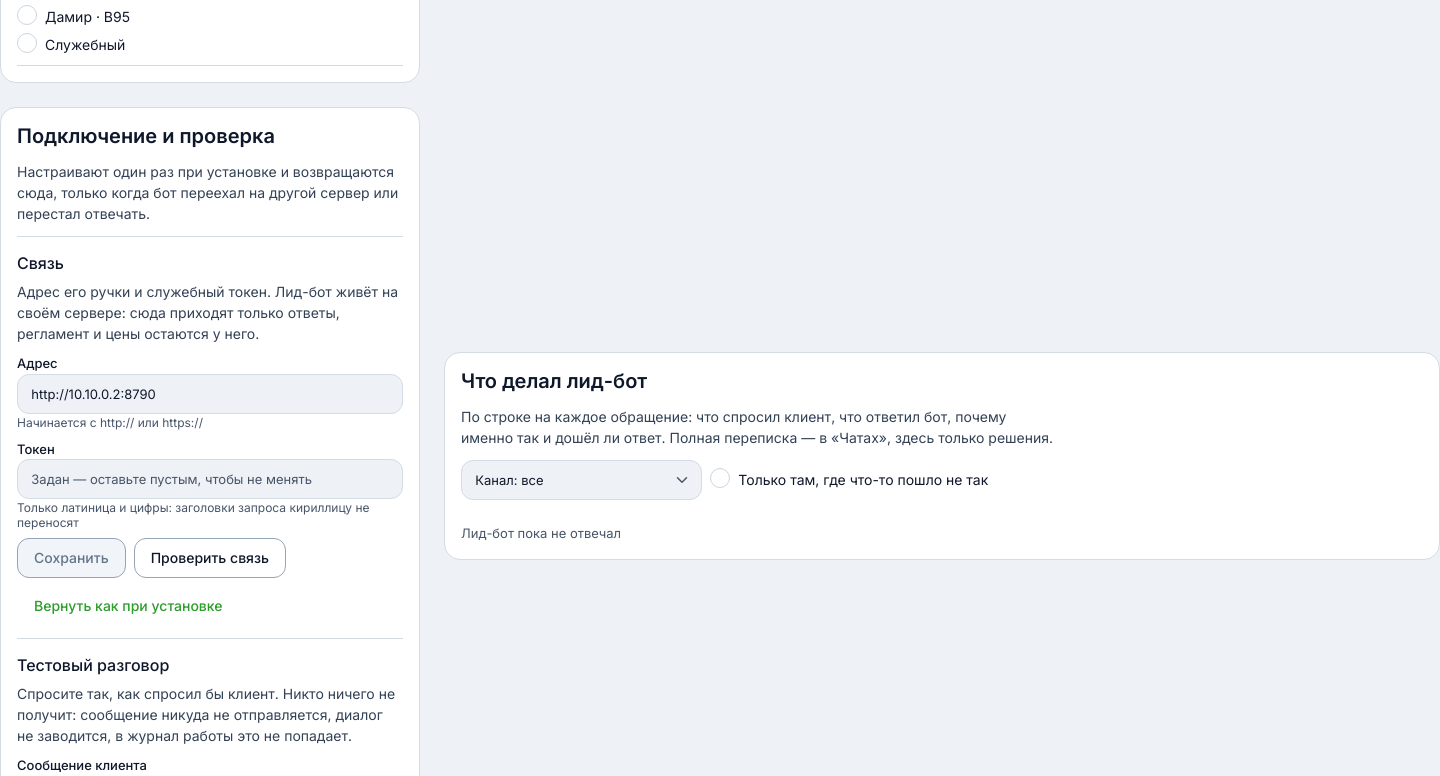
Scenario: Раздел «Лид-бот» › правка адреса не затирается сохранением соседней настройки
(page scrolled)
In the field labelled "Адрес": (210, 394) [17, 374, 403, 414], type "http://10.10.0.9:8790"
(page scrolled)
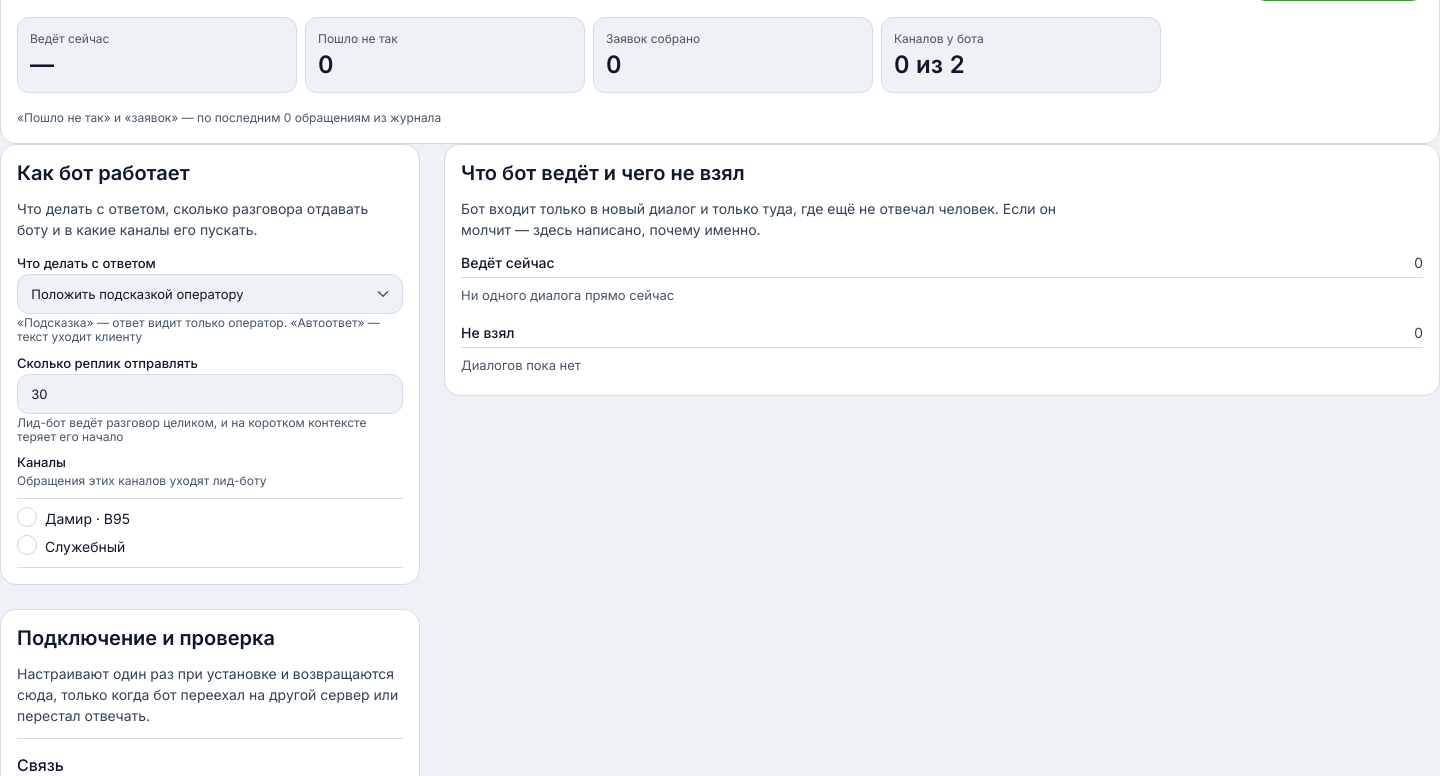
Replace the text in the number field labelled "Сколько реплик отправлять" with "12": (210, 394) [17, 374, 403, 414]
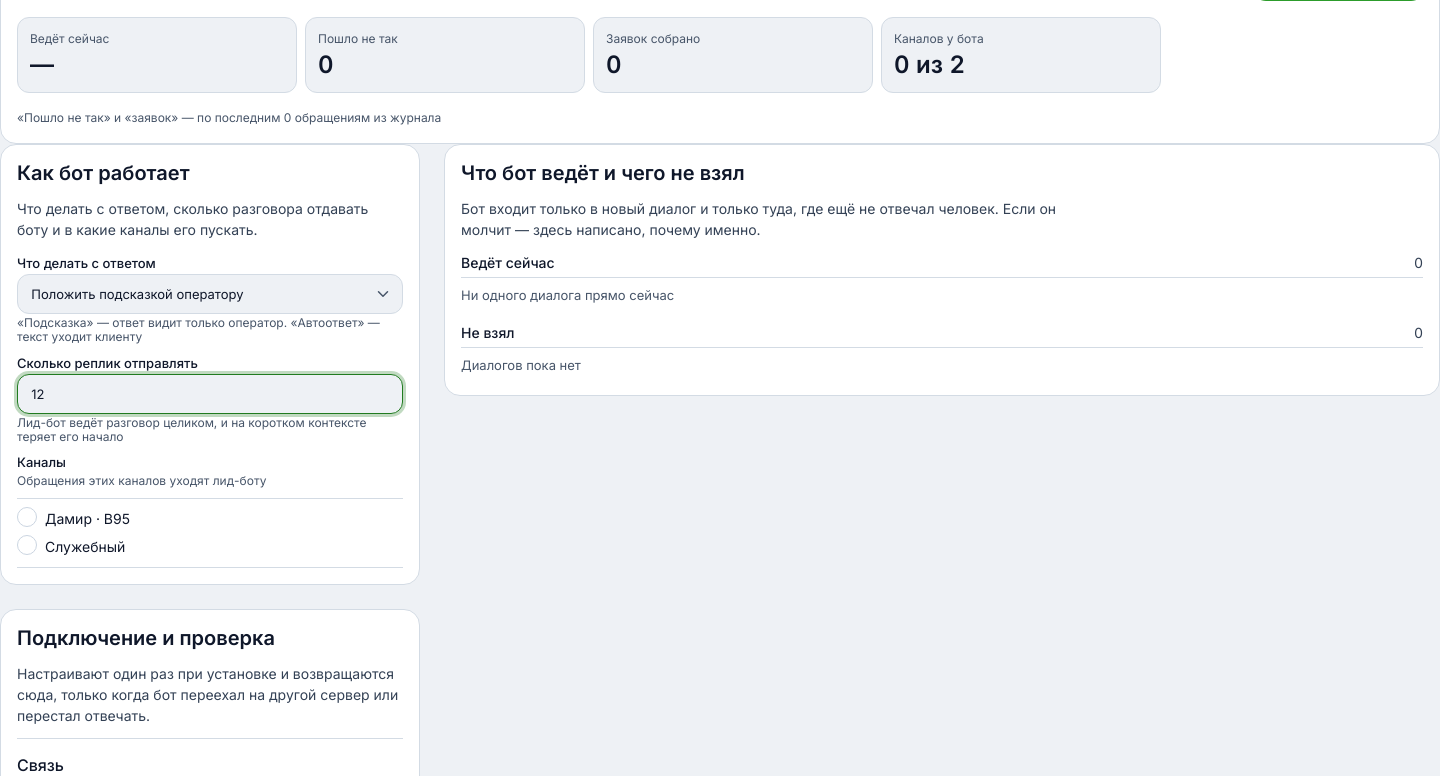
Press Tab
(page scrolled)
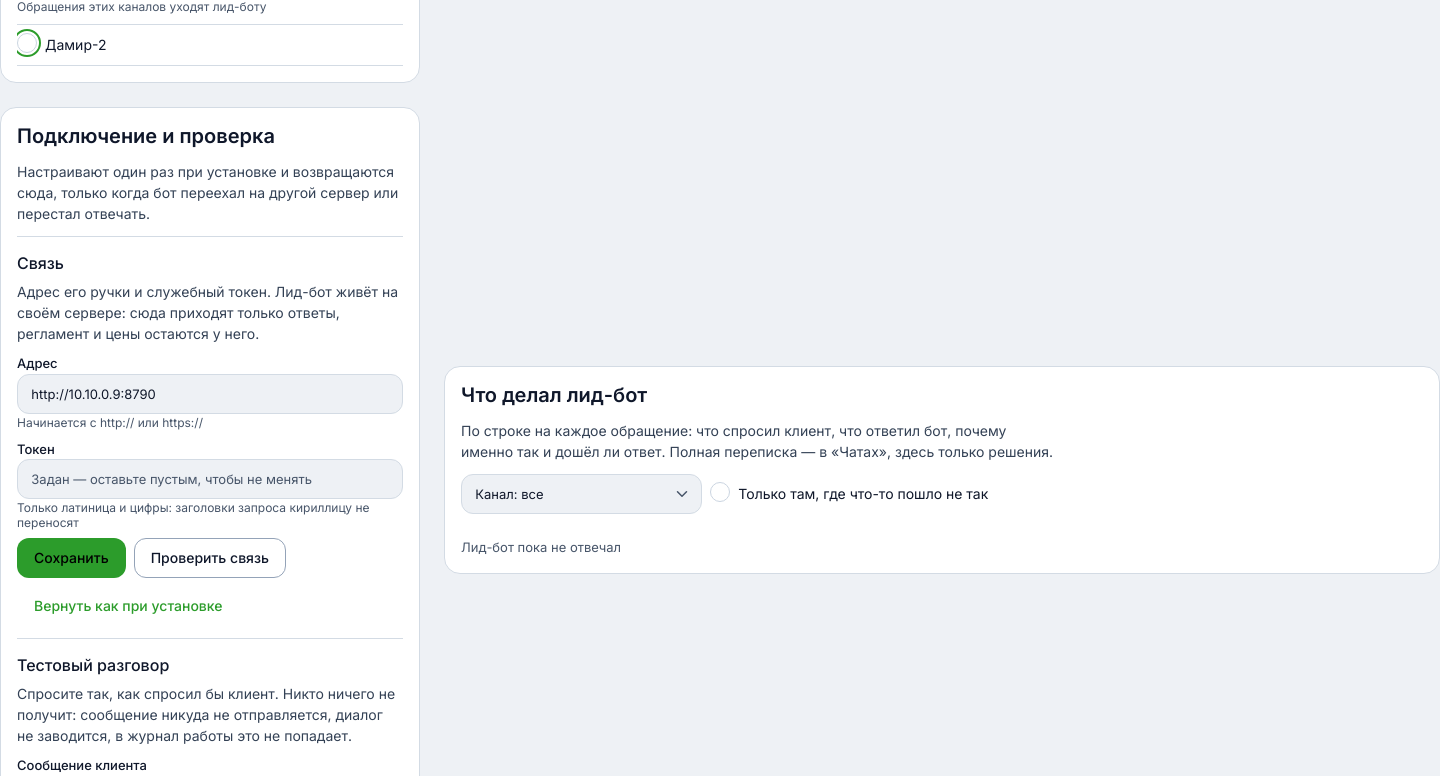
Expected: the text "Дамир-2" is shown, [45, 35, 106, 55]
